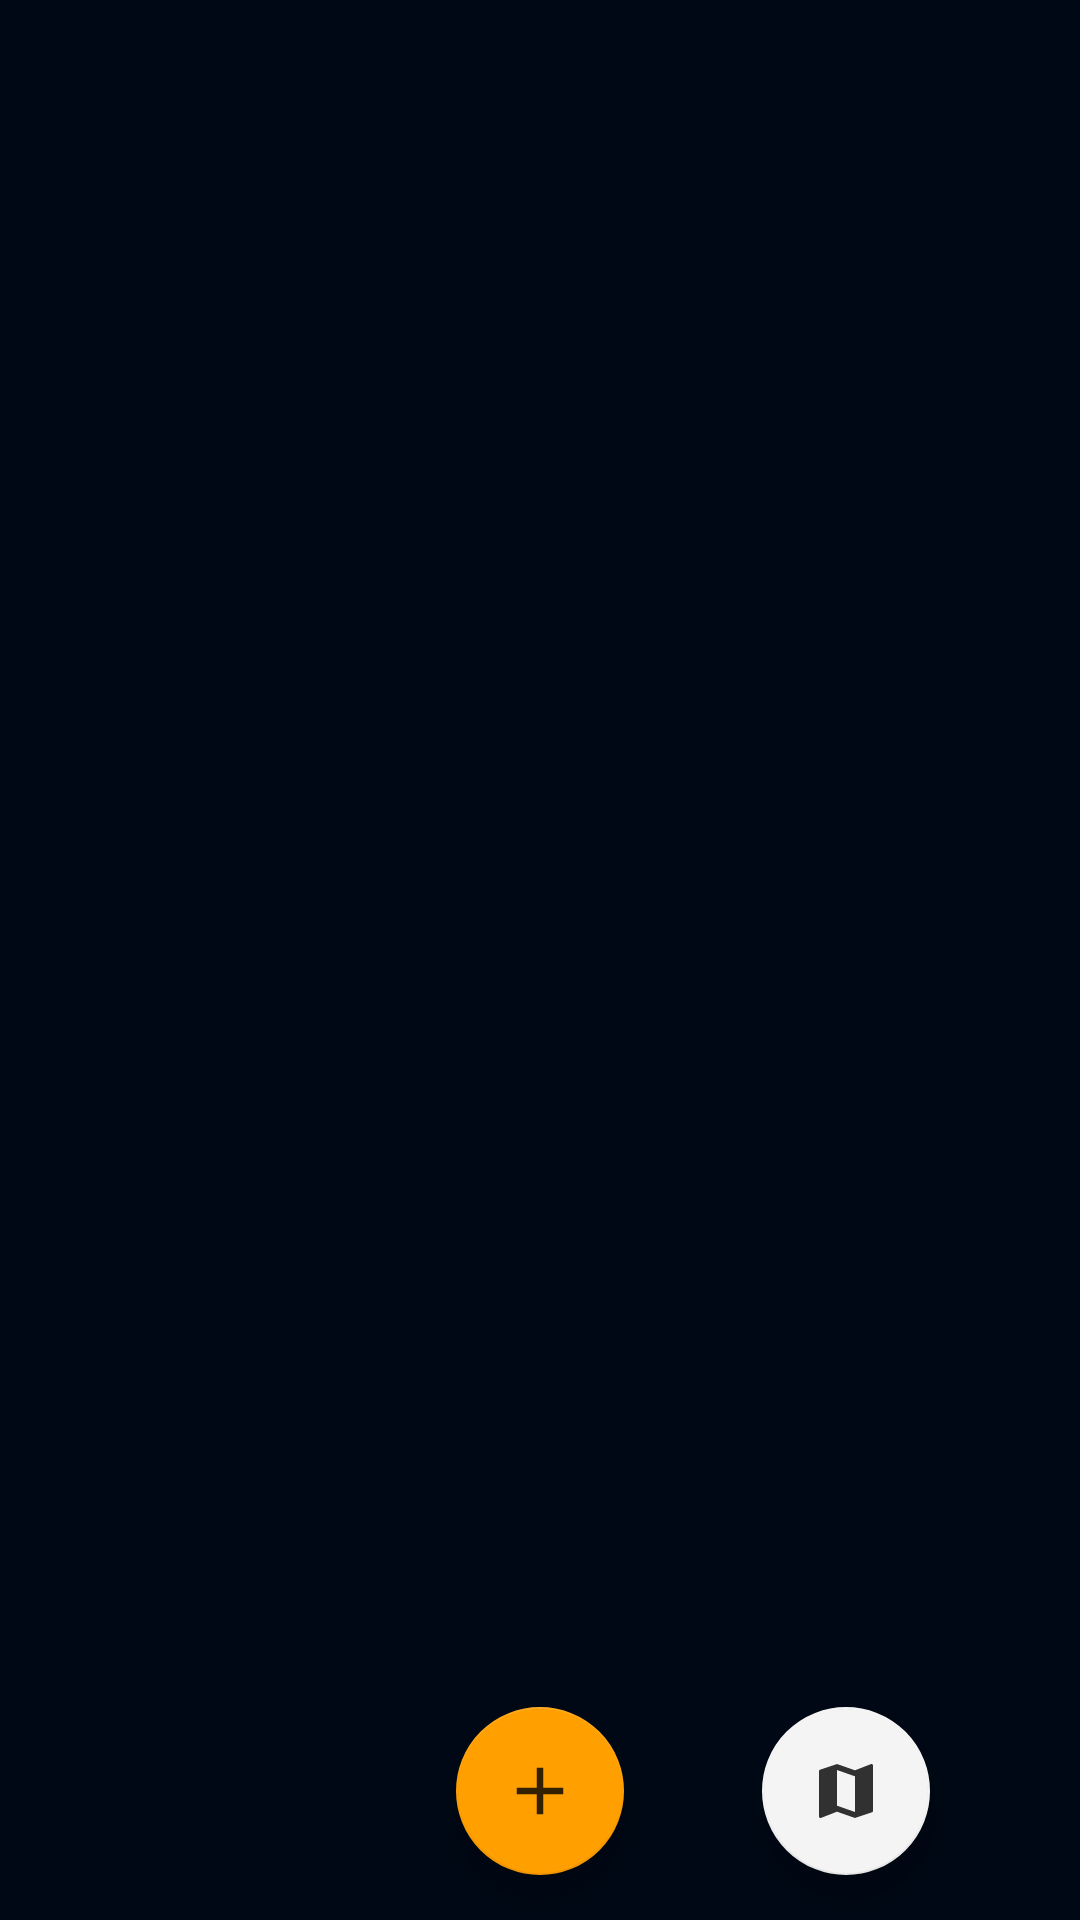

Named icons in this screenshot (1080×1920) and their bounding boxes, box(x1, y1, x2, y2):
add verydark: box(456, 1707, 624, 1875)
map verydark: box(762, 1707, 930, 1875)
